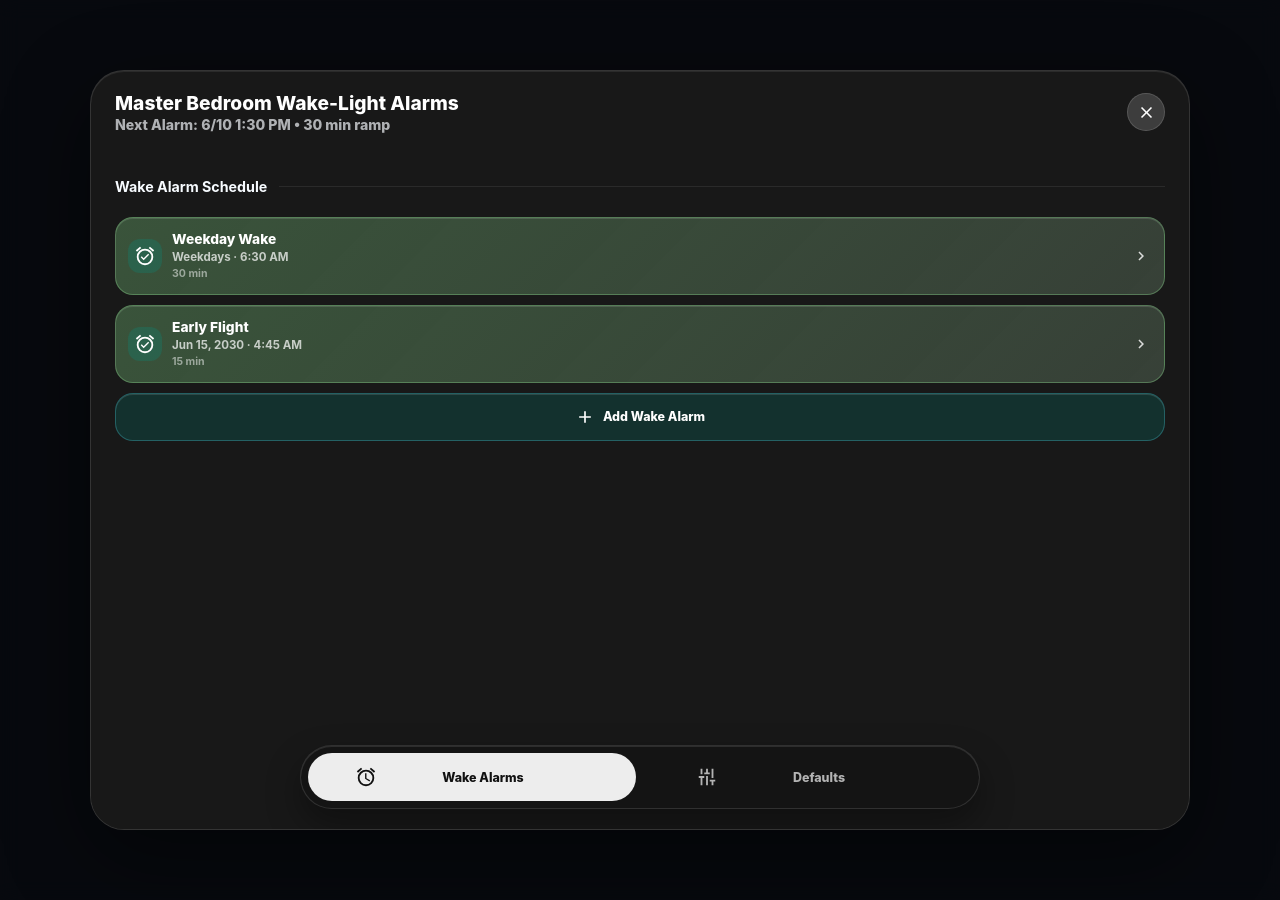
Test: WakeLightModalContent › opens one mounted sheet and creates a one-time wake alarm through wake_light.command
Expected: the element named "Wake-Light Alarms modal sections" is shown, [300,745,980,809]
Expected: the text "Weekday Wake" is shown, [172,231,276,247]
Click the button "Add Wake Alarm".
click(640, 417)  # box [115,393,1165,441]
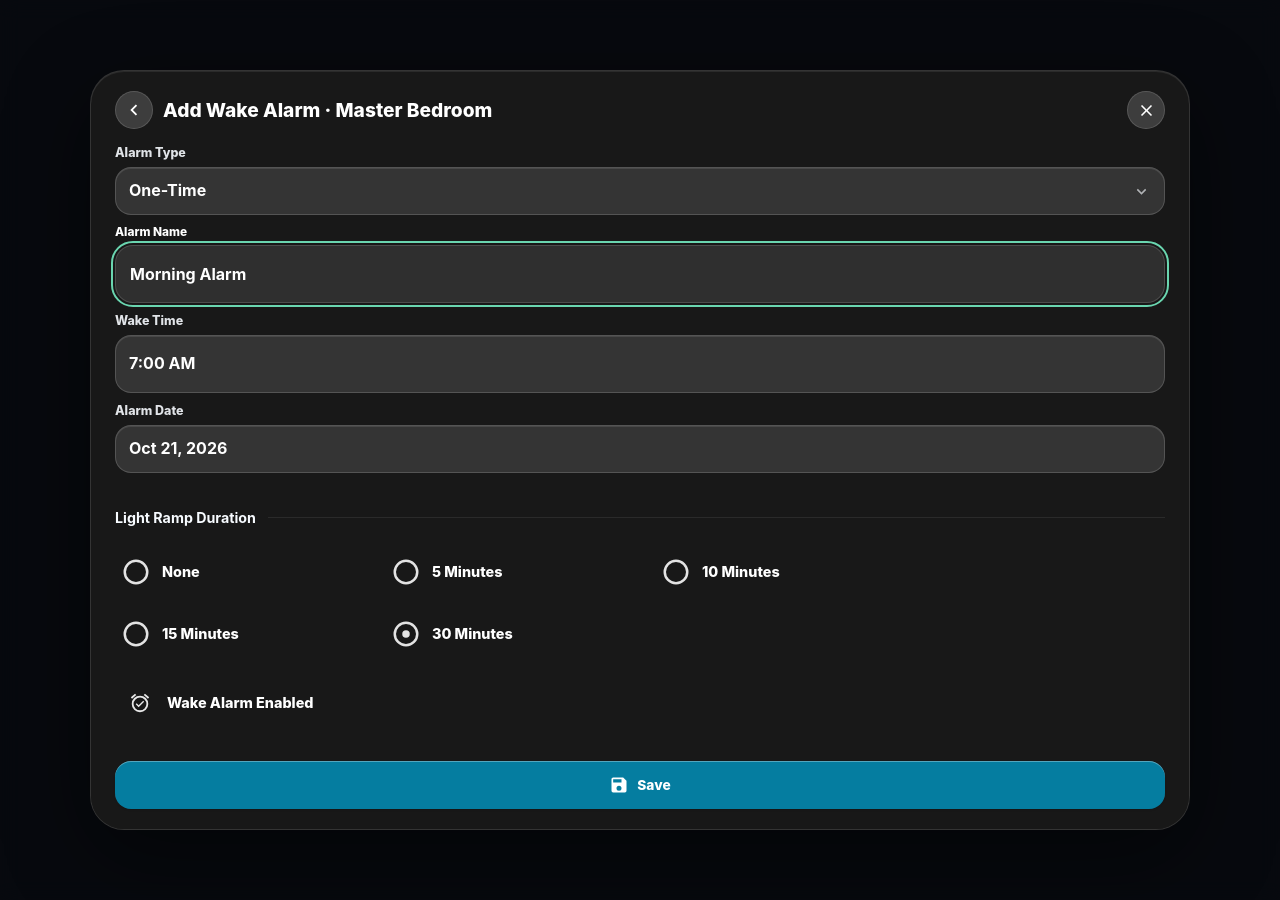
Expected: the label labelled "Alarm Type" holds "once", [115,145,1165,215]
Replace the text in the field labelled "Alarm Name" with "Airport Morning" at (640,274), box [115,245,1165,303]
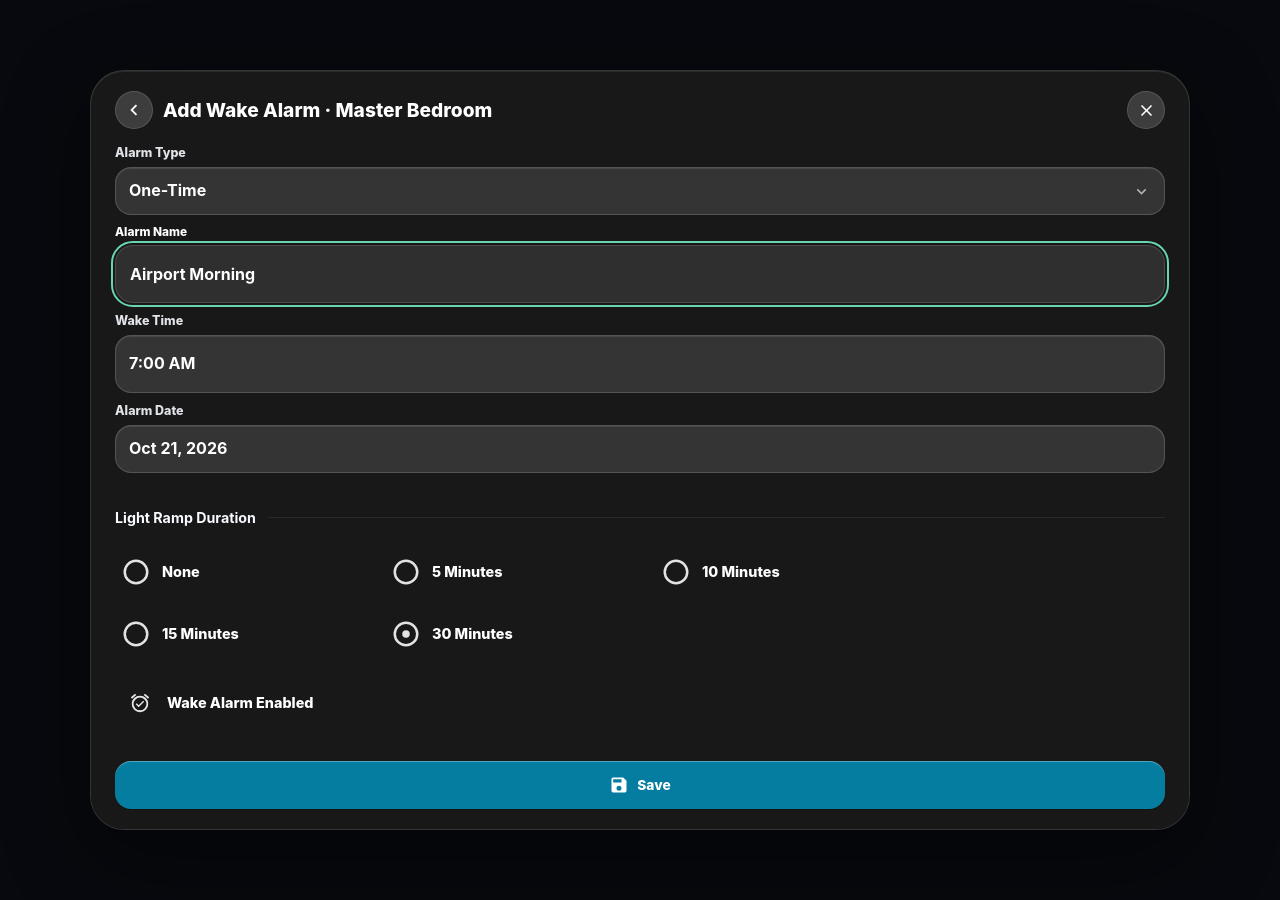
Type "2031-01-15" into the date field labelled "Alarm Date".
click(640, 438); type("2031-01-15")  # box [115,403,1165,473]
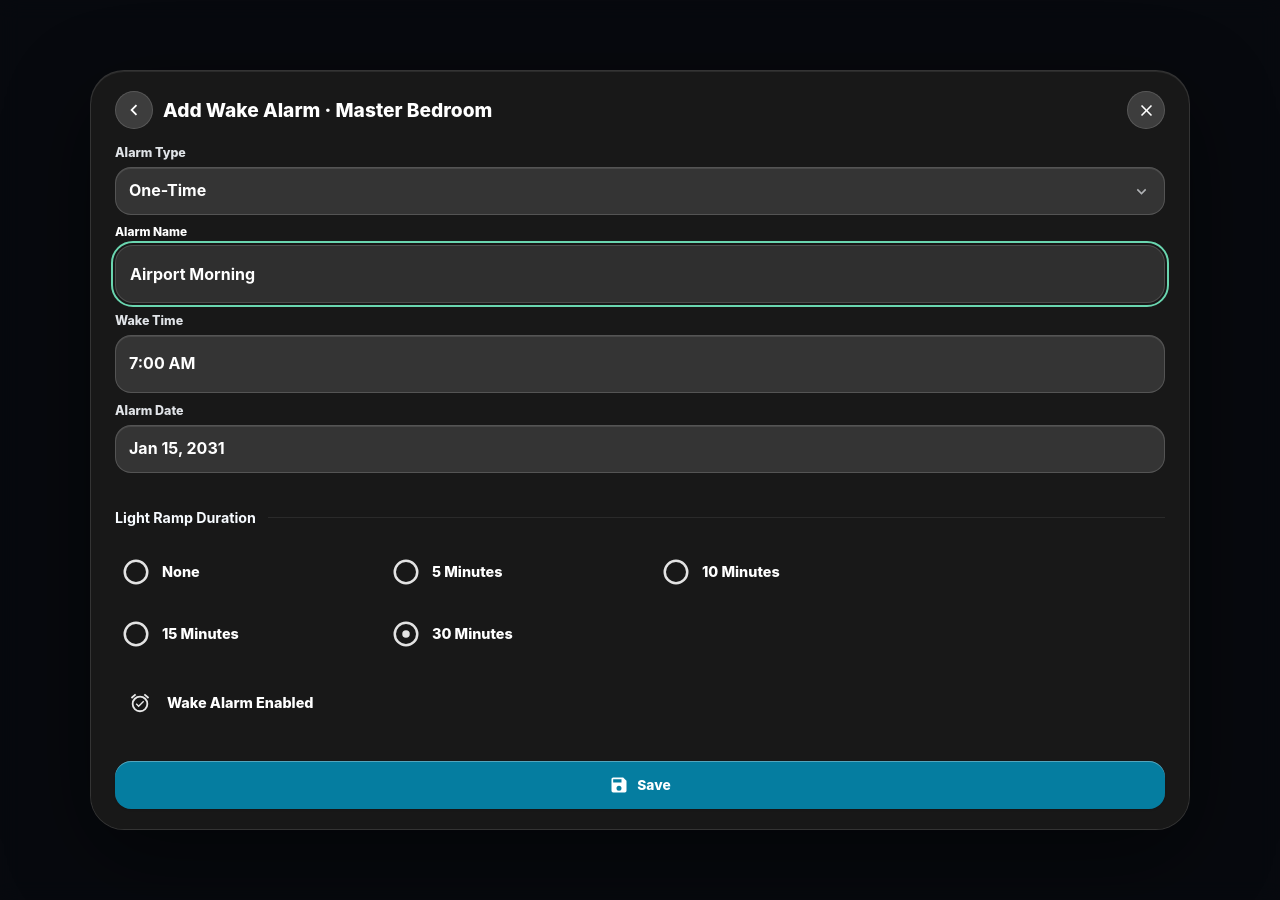
Replace the text in the time field labelled "Wake Time" with "05:15" at (640,353), box [115,313,1165,393]
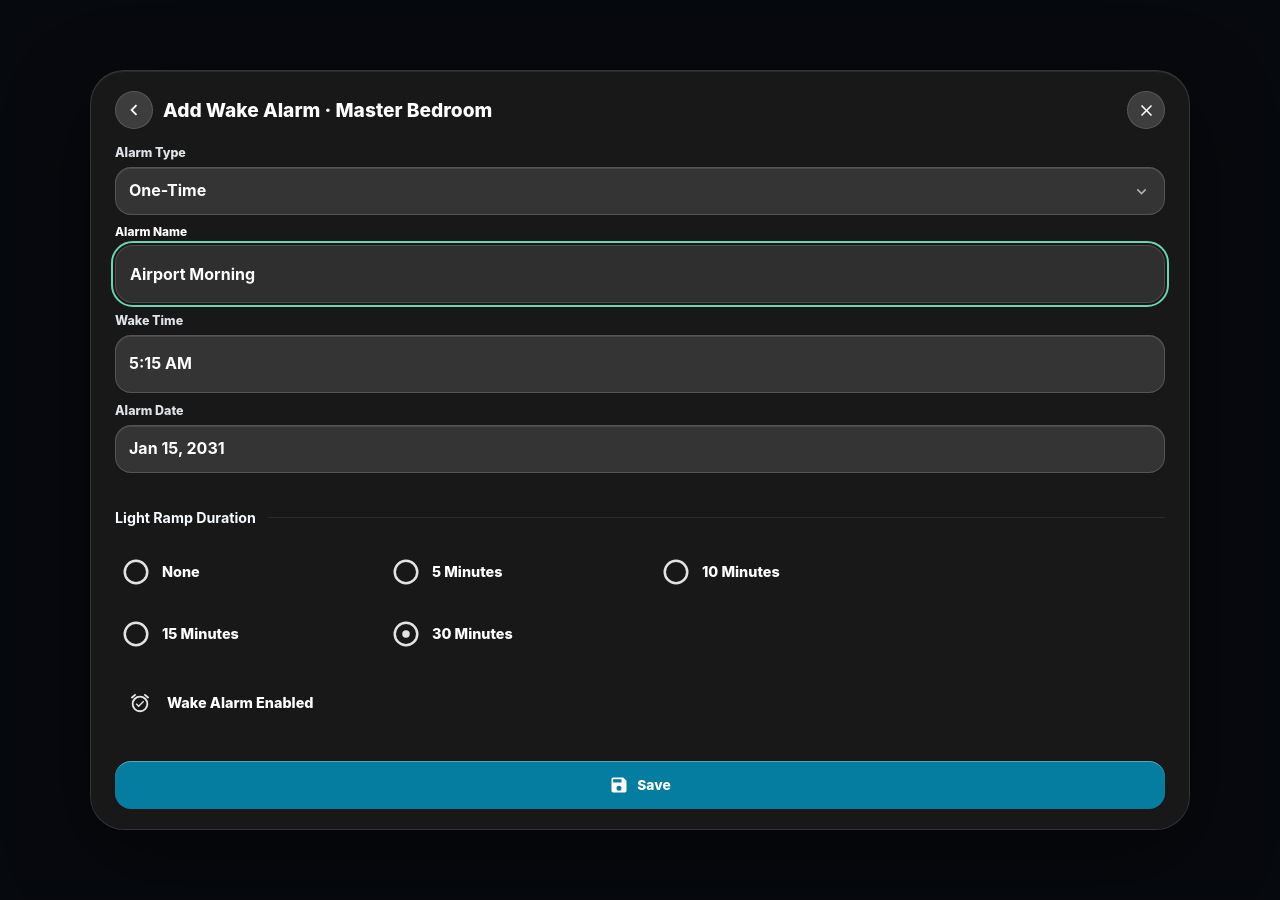
Click the radio button labelled "15 Minutes".
click(200, 633)  # box [115,608,375,660]
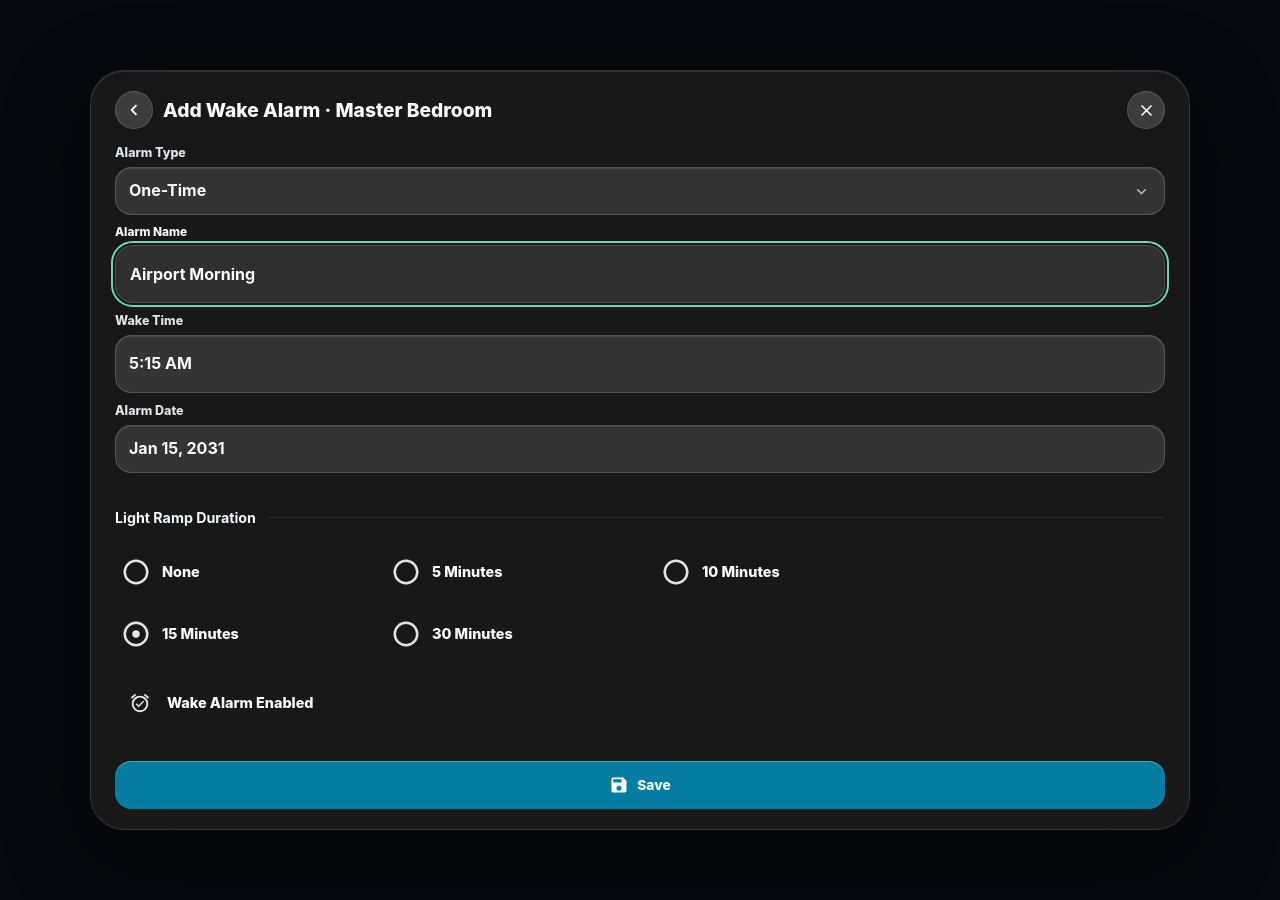
Click the button "Save".
click(640, 785)  # box [115,761,1165,809]
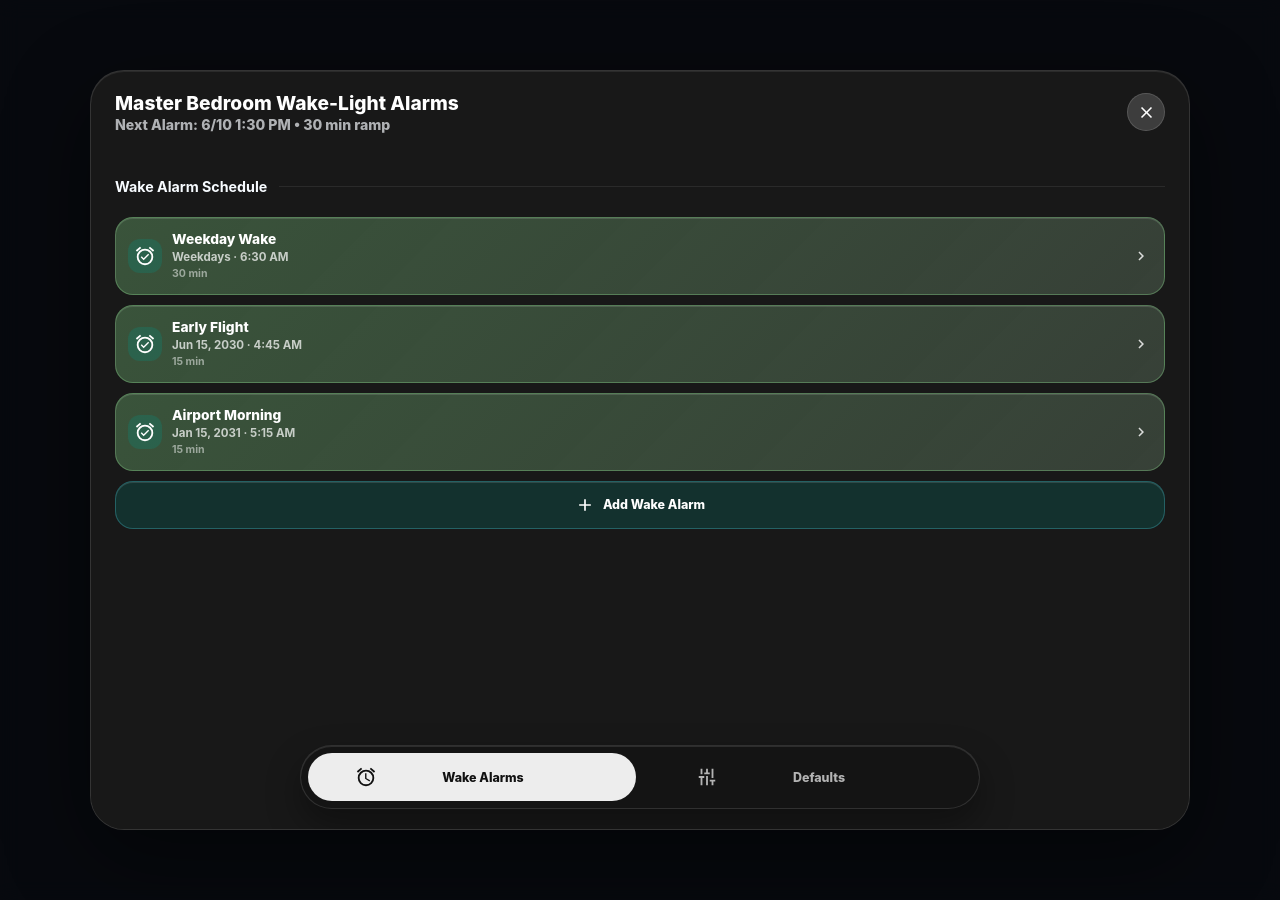
Expected: the text "Airport Morning" is shown, [172,407,281,423]
